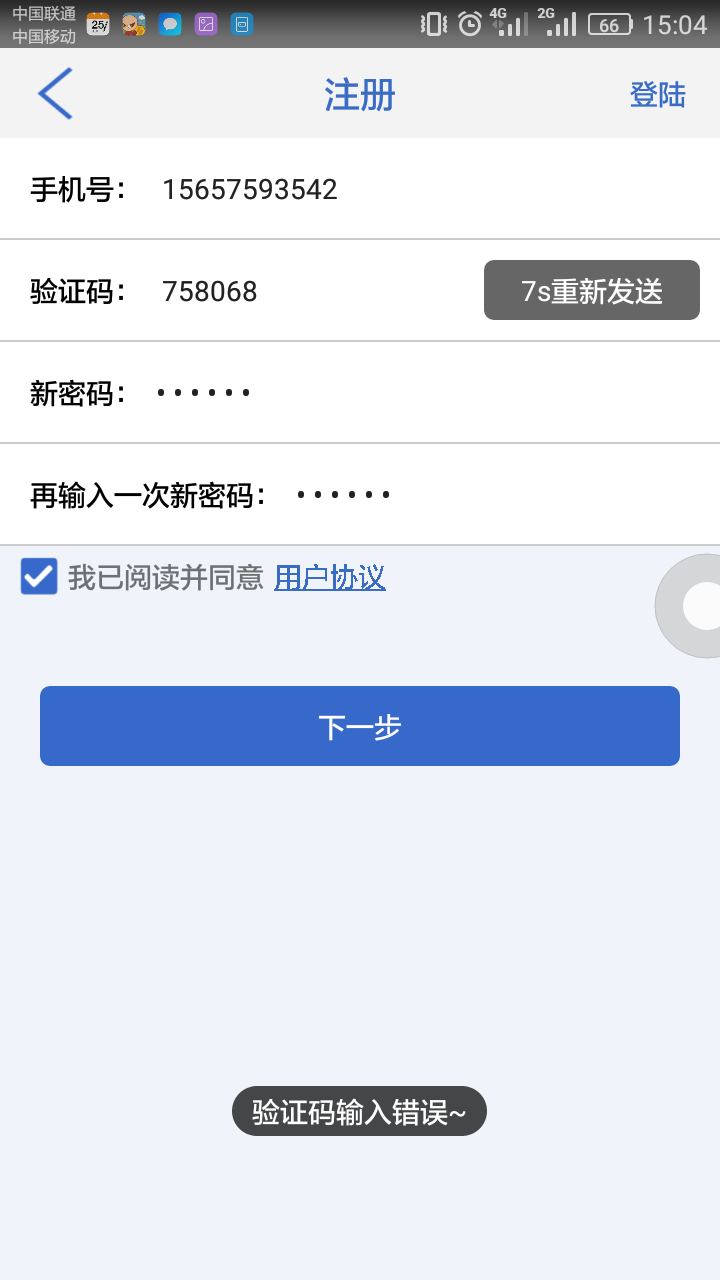alert: (229, 1077, 491, 1146)
button: (623, 72, 694, 121)
checkbox: (20, 548, 398, 610)
